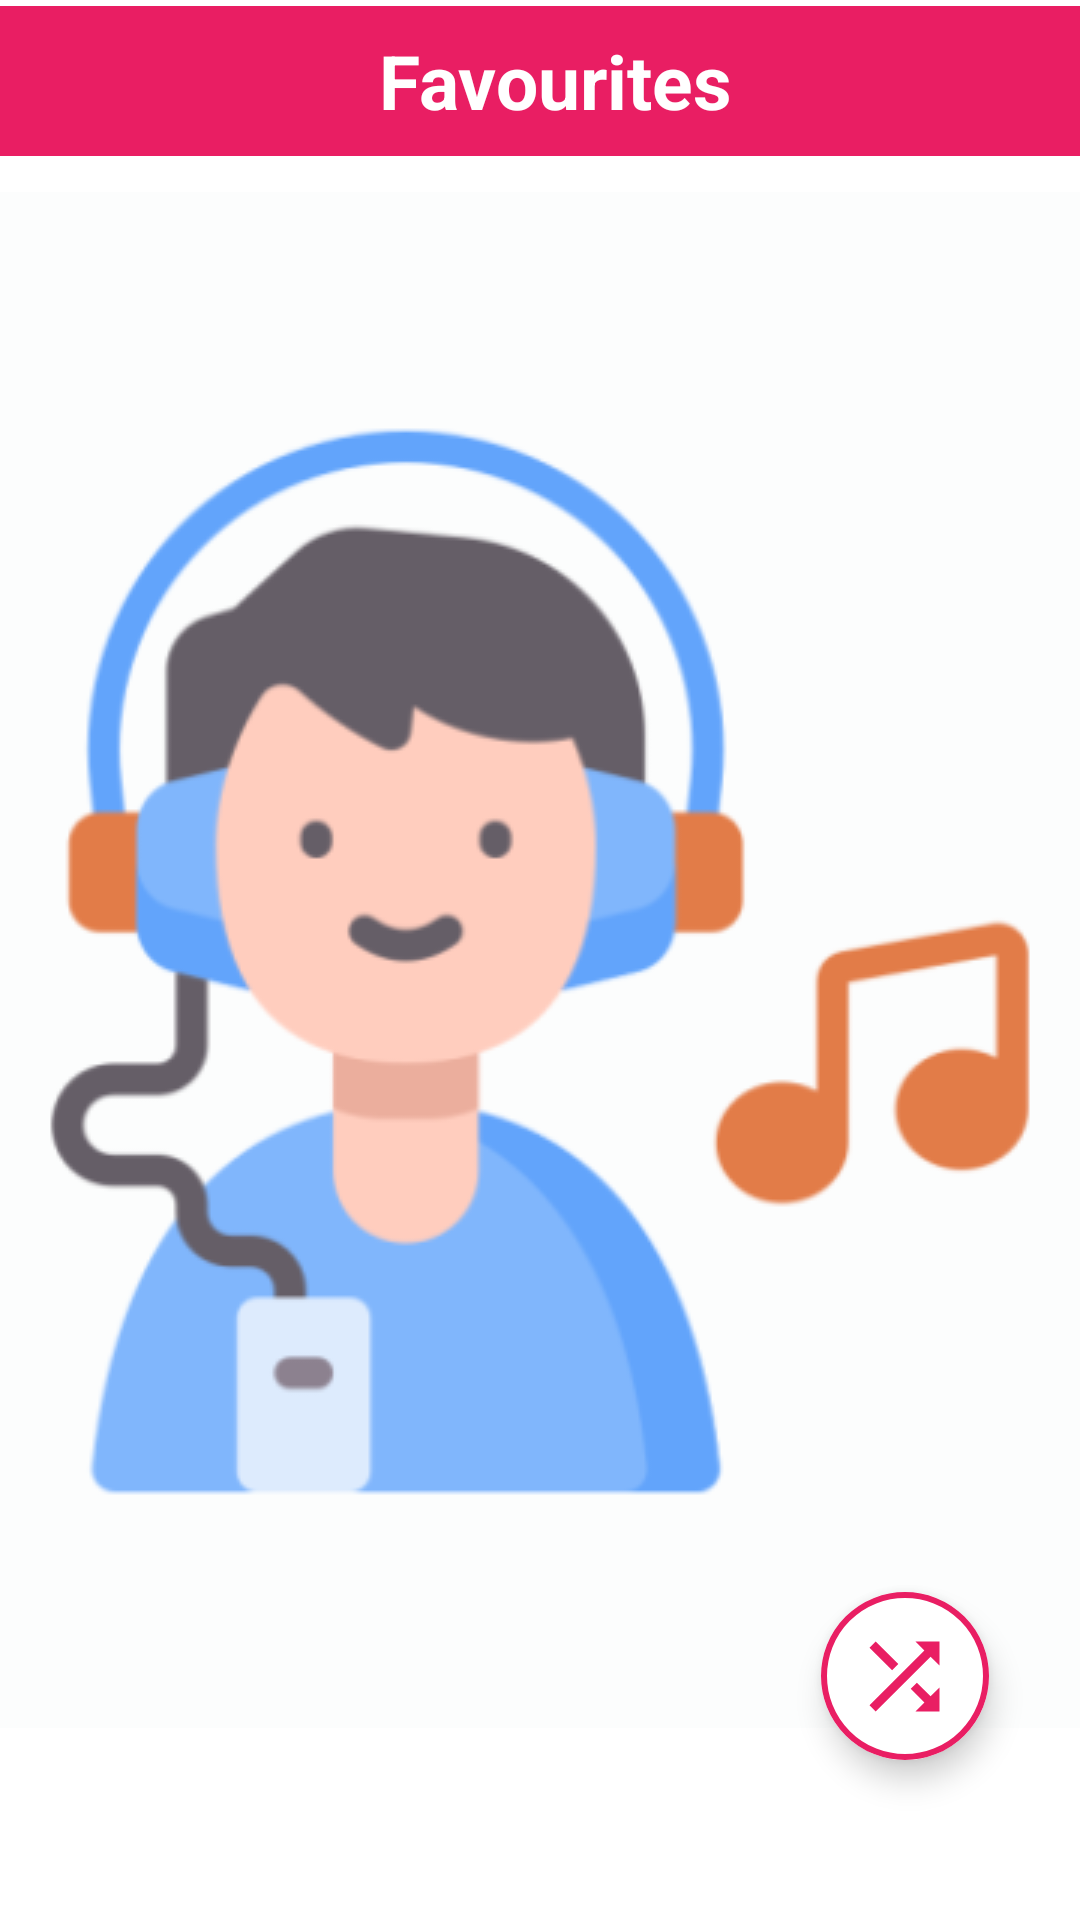

Screen size 1080 × 1920. Icon name, then its box in pixels as (x1, y1, x2, y2):
shuffle: (821, 1592, 989, 1760)
